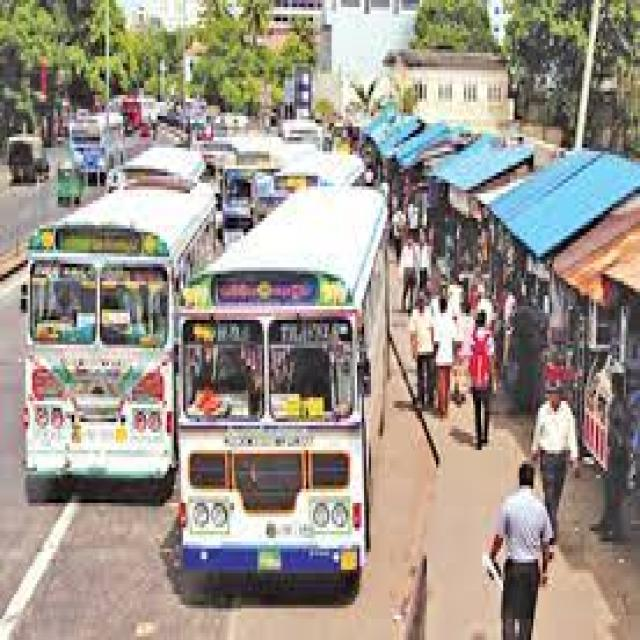bus: (178, 187, 384, 594), (21, 184, 213, 502), (69, 113, 122, 184)
person: (488, 467, 548, 640), (529, 389, 573, 522), (598, 368, 626, 545), (467, 311, 490, 453), (407, 297, 430, 410), (432, 297, 451, 417), (400, 244, 411, 311), (390, 212, 402, 240)
three wheeler: (58, 170, 81, 205)
